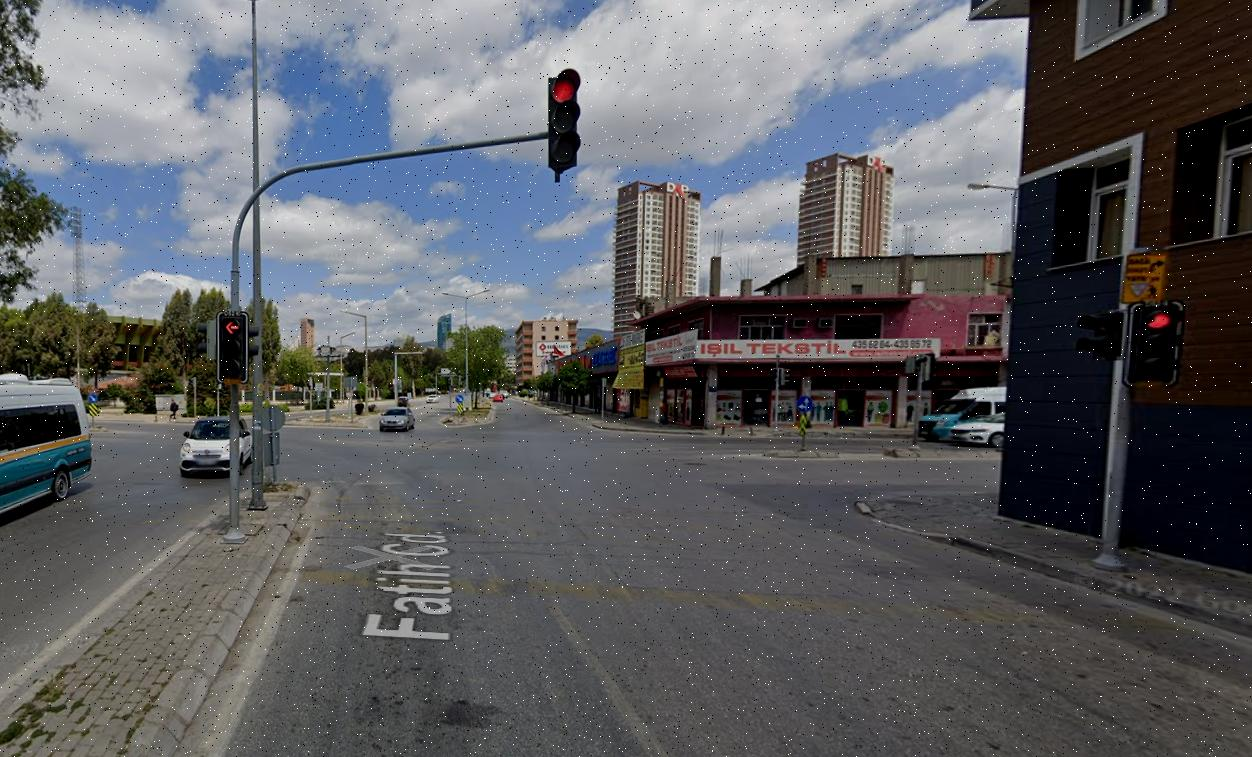redlight: (1132, 303, 1181, 383), (550, 71, 579, 169), (218, 313, 246, 379)
